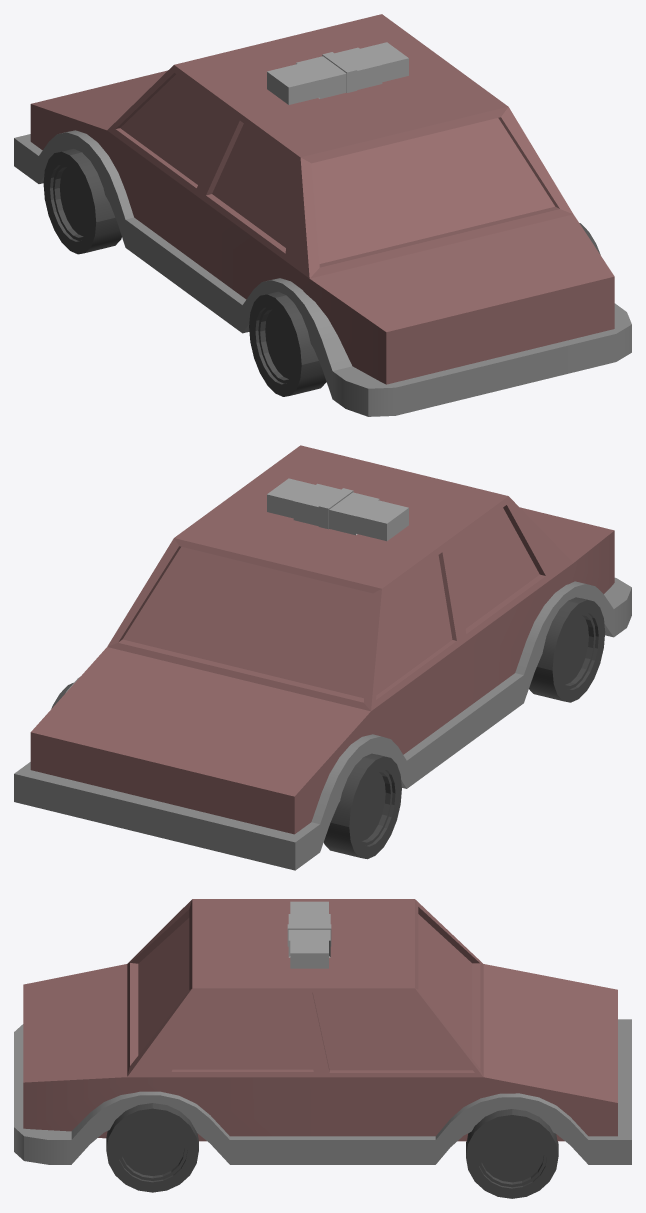
The model's file is Coche_Policia.fbx.
3 renders of one model, top to bottom at view 1: azimuth 30°, elevation 25°; view 2: azimuth 150°, elevation 25°; view 3: azimuth 270°, elevation 25°, orthographic. The views are drawn at different scales.
Parts seen in each view (by area): view 1: Coche, Abajo1, Rueda2, Rueda5, Sirena; view 2: Coche, Abajo1, Rueda2, Rueda5, Sirena; view 3: Coche, Abajo1, Rueda3, Rueda4, Sirena.
Part boxes in pixels (x1,y1,x2,y2): Coche: (30,14,614,384); Abajo1: (14,130,631,416); Rueda2: (43,149,121,254); Rueda5: (249,291,326,396); Sirena: (267,42,408,104); Coche: (30,445,614,834); Abajo1: (14,577,631,870); Rueda2: (323,753,401,859); Rueda5: (529,597,605,702); Sirena: (267,478,408,541); Coche: (23,899,617,1141); Abajo1: (14,1019,631,1164); Rueda3: (466,1109,558,1198); Rueda4: (106,1103,198,1192); Sirena: (287,901,331,968).
Size of the model in its own units: 5.08 by 3.71 by 10.04.
